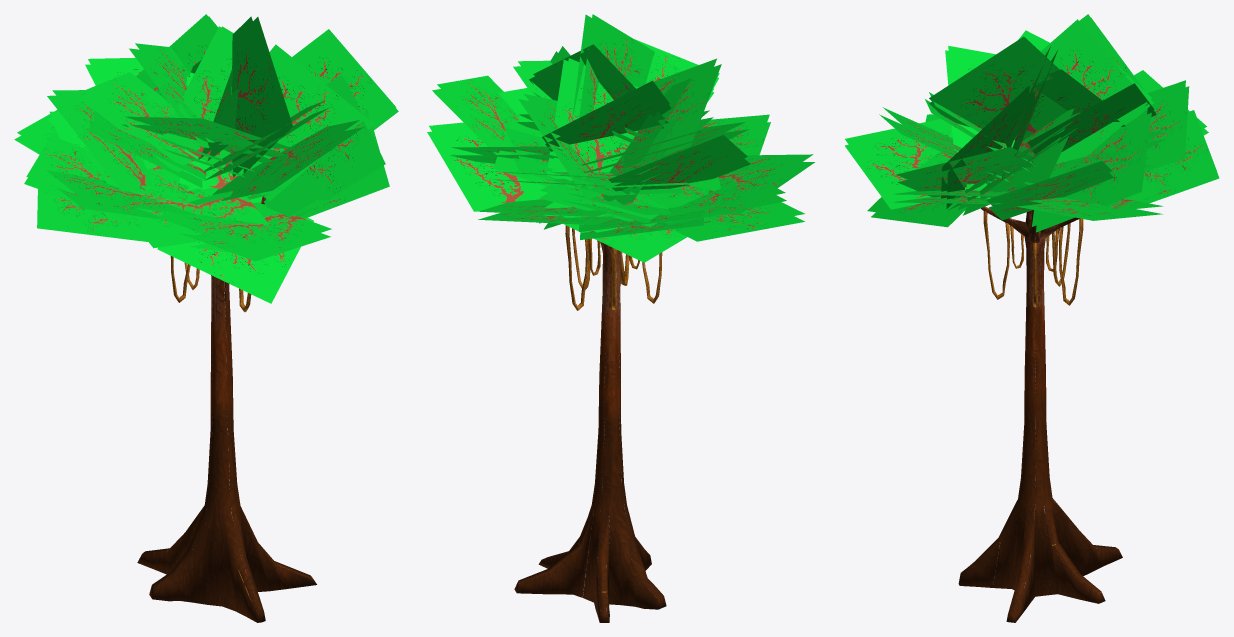
Rendered from GrandeArvore.dae.
3 views of the same model, side by side, from view 1: azimuth 30°, elevation 25°; view 2: azimuth 150°, elevation 25°; view 3: azimuth 270°, elevation 25° (orthographic). The views are drawn at different scales.
Visible parts, largest first — view 1: Cilindro.001; view 2: Cilindro.001; view 3: Cilindro.001.
Part boxes in pixels (x1,y1,x2,y2): Cilindro.001: (14,14,398,622); Cilindro.001: (427,14,814,622); Cilindro.001: (845,14,1219,622).
Size of the model in its own units: 8.24 by 7.94 by 13.05.
